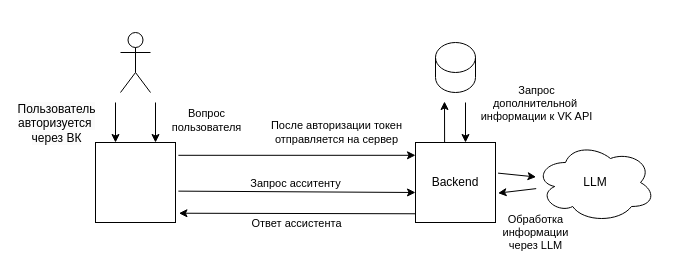
This 673x270 diagram has some shape labels left out. Here are the shapes that lost their labels. From the top down, the centre of each, then its label:
At (x=455, y=67): "VKAPI".
At (x=135, y=182): "Frontend".
